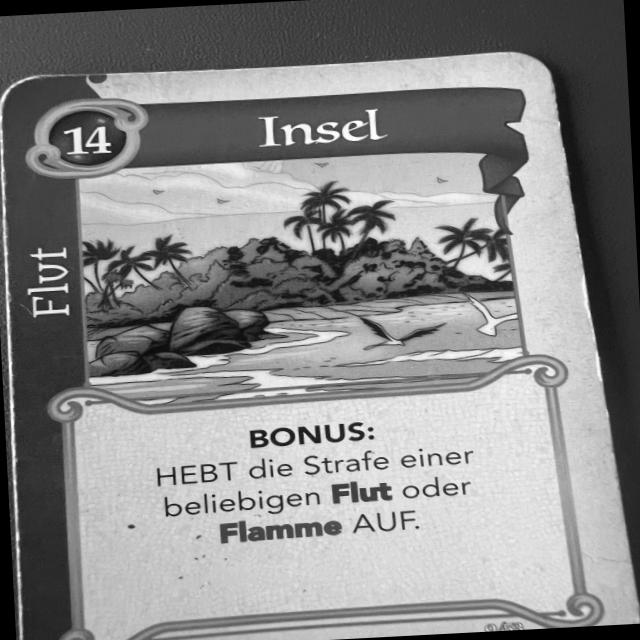Island: (2, 51, 640, 640)
